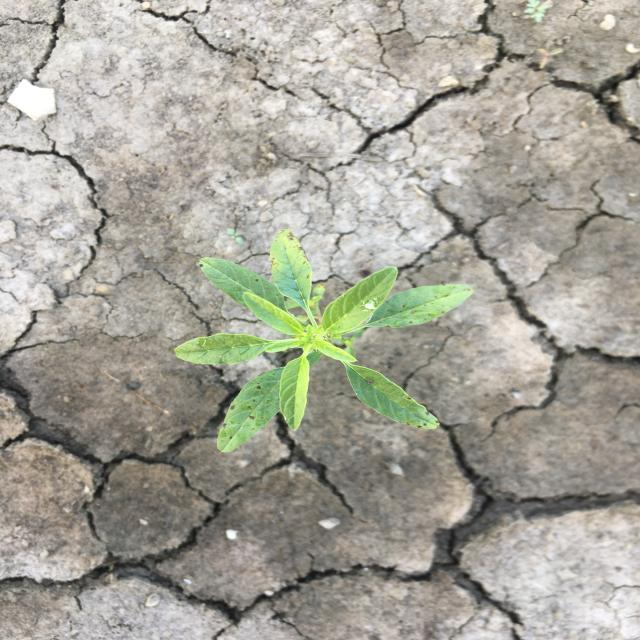Waterhemp: (172, 228, 475, 455)
